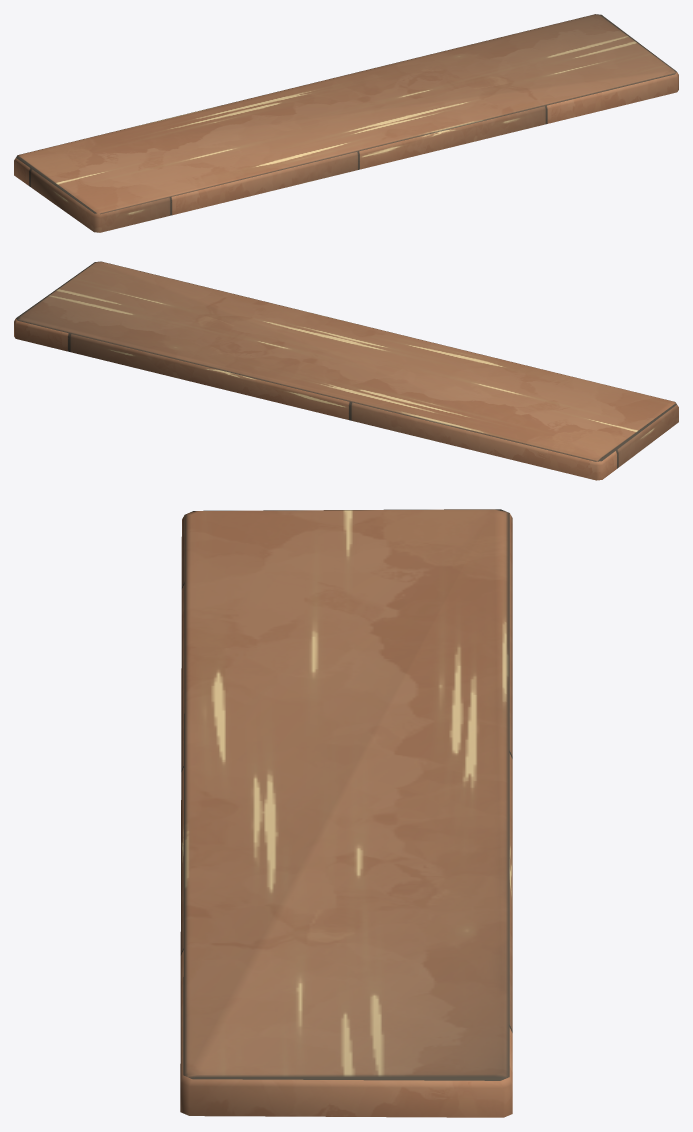
Rendered from m_e1_floorPlank01.fbx.
The picture shows the model from 3 angles, top to bottom: view 1: azimuth 30°, elevation 25°; view 2: azimuth 150°, elevation 25°; view 3: azimuth 270°, elevation 25°; orthographic projection. The views are drawn at different scales.
Parts seen in each view (by area): view 1: m_e1_floorPlank01; view 2: m_e1_floorPlank01; view 3: m_e1_floorPlank01.
Boxes of the visible parts, bbox=[...] form: m_e1_floorPlank01: bbox=[14, 14, 678, 232]; m_e1_floorPlank01: bbox=[14, 261, 678, 480]; m_e1_floorPlank01: bbox=[180, 509, 512, 1117].
Size of the model in its own units: 100 by 3.12 by 24.53.
